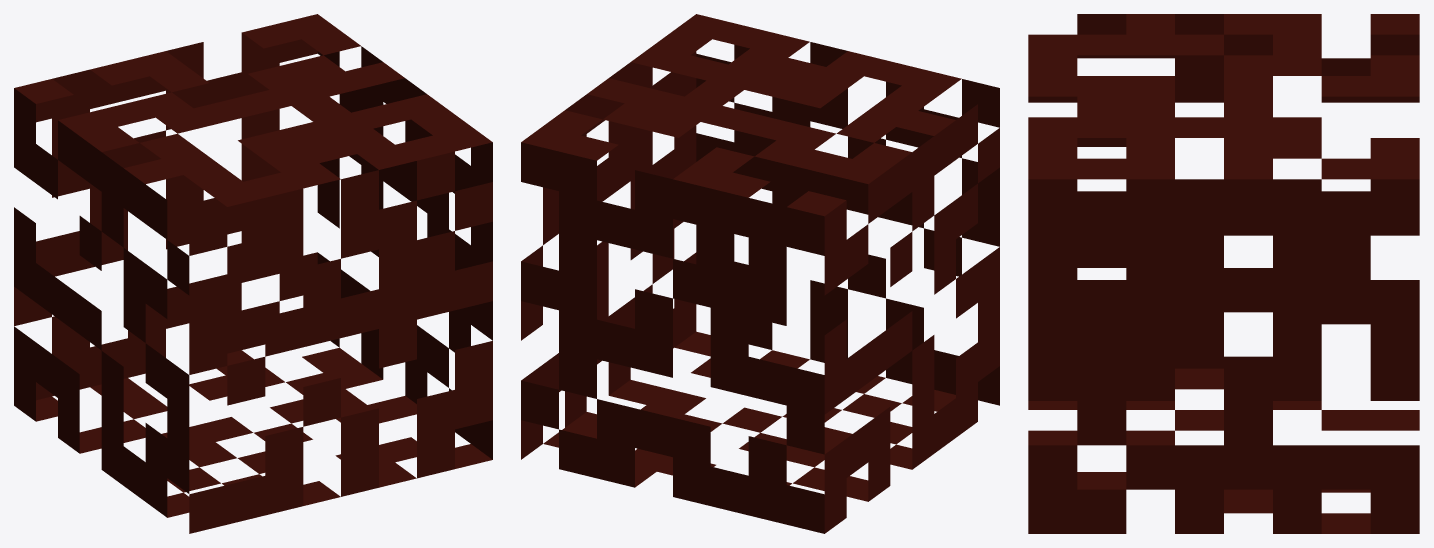
The picture shows the model from 3 angles, left to right: view 1: azimuth 30°, elevation 25°; view 2: azimuth 150°, elevation 25°; view 3: azimuth 270°, elevation 25°; orthographic projection. The views are drawn at different scales.
Parts seen in each view (by area): view 1: pasted__cube_exterior; view 2: pasted__cube_exterior; view 3: pasted__cube_exterior.
Boxes of the visible parts, bbox=[...] form: pasted__cube_exterior: bbox=[14, 14, 492, 533]; pasted__cube_exterior: bbox=[521, 14, 999, 533]; pasted__cube_exterior: bbox=[1028, 14, 1419, 533].
Size of the model in its own units: 2.74 by 2.74 by 2.74.
